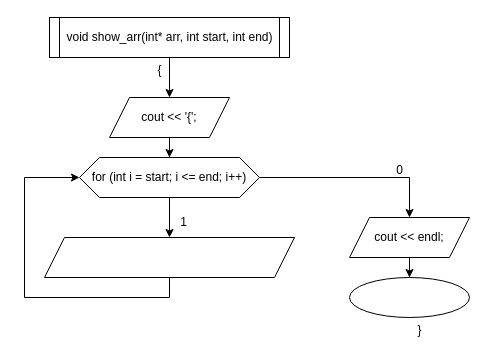
Image size: 487x363. Some labels were removed from this diagram. The shapes that lost their labels are listed below. From the top down, each one's box as (x1, y1, x2, y2) in pixels, then its label:
(44, 236, 294, 278): cout << arr[i] << ((i == end) ? "}\n" : ", ");
(348, 276, 470, 318): return;
